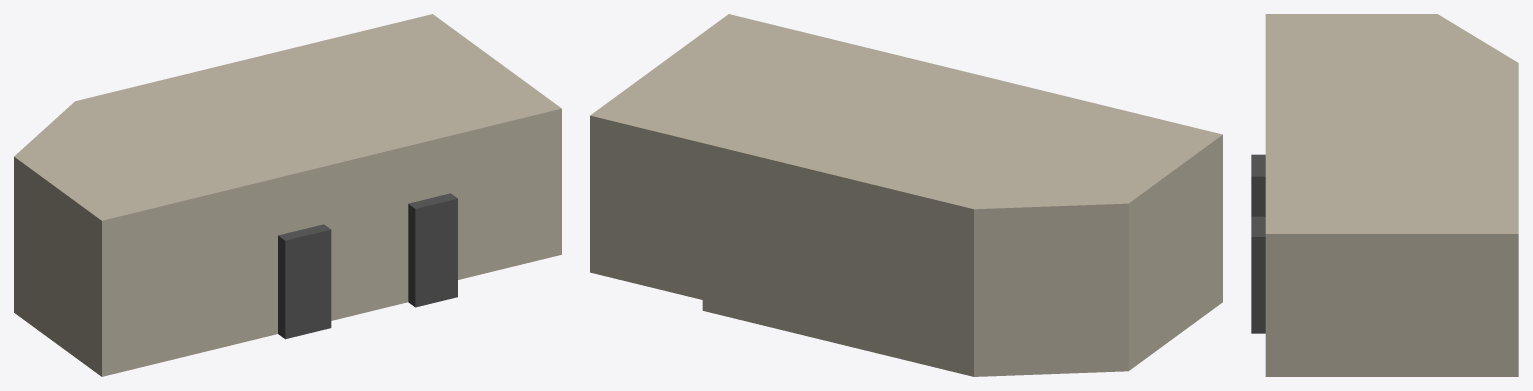
File: FBX-Room.fbx
The picture shows the model from 3 angles, left to right: view 1: azimuth 30°, elevation 25°; view 2: azimuth 150°, elevation 25°; view 3: azimuth 270°, elevation 25°; orthographic projection. The views are drawn at different scales.
Parts seen in each view (by area): view 1: Cube.058; view 2: Cube.058; view 3: Cube.058.
Part boxes in pixels (x1,y1,x2,y2): Cube.058: (14, 14, 561, 376); Cube.058: (590, 14, 1222, 376); Cube.058: (1251, 14, 1518, 376).
Size of the model in its own units: 18500 by 6000 by 9504.
